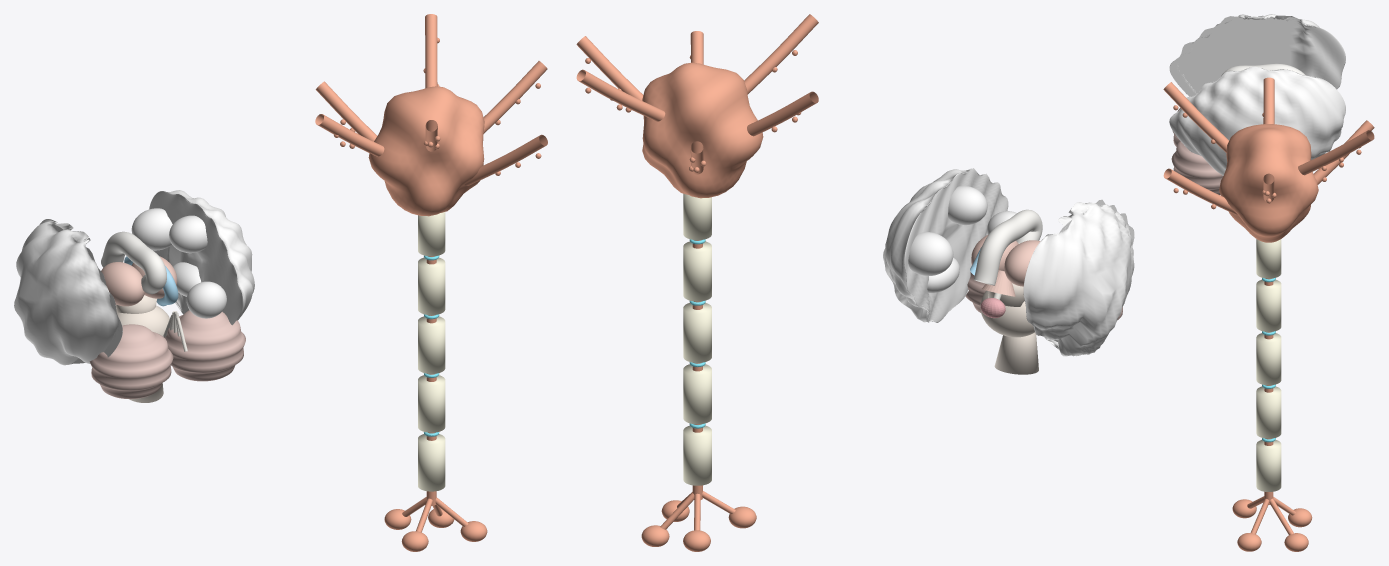
Rendered from brain_realistic.glb.
The picture shows the model from 3 angles, left to right: view 1: azimuth 30°, elevation 25°; view 2: azimuth 150°, elevation 25°; view 3: azimuth 270°, elevation 25°; orthographic projection. The views are drawn at different scales.
Visible parts, largest first — view 1: Right_Cerebral_Hemisphere, Neuron_Soma, Left_Cerebral_Hemisphere, Right_Cerebellar_Hemisphere, Left_Cerebellar_Hemisphere, Corpus_Callosum, Myelin_Sheath_Segment_5, Myelin_Sheath_Segment_3, Myelin_Sheath_Segment_2, Myelin_Sheath_Segment_4, Right_Thalamus, Frontal_Lobe (+10 smaller); view 2: Right_Cerebral_Hemisphere, Neuron_Soma, Left_Cerebral_Hemisphere, Corpus_Callosum, Myelin_Sheath_Segment_2, Myelin_Sheath_Segment_4, Myelin_Sheath_Segment_5, Myelin_Sheath_Segment_3, Frontal_Lobe, Medulla_Oblongata, Dendrite_Primary_5, Parietal_Lobe (+6 smaller); view 3: Left_Cerebral_Hemisphere, Right_Cerebral_Hemisphere, Neuron_Soma, Left_Cerebellar_Hemisphere, Myelin_Sheath_Segment_4, Myelin_Sheath_Segment_3, Myelin_Sheath_Segment_2, Myelin_Sheath_Segment_5, Dendrite_Primary_5, Myelin_Sheath_Segment_1, Dendrite_Primary_2, Dendrite_Primary_6 (+8 smaller).
Part boxes in pixels (x1,y1,x2,y2): Right_Cerebral_Hemisphere: [14, 219, 122, 365]; Neuron_Soma: [368, 86, 484, 216]; Left_Cerebral_Hemisphere: [149, 190, 254, 325]; Right_Cerebellar_Hemisphere: [89, 324, 173, 399]; Left_Cerebellar_Hemisphere: [164, 310, 245, 381]; Corpus_Callosum: [101, 231, 166, 294]; Myelin_Sheath_Segment_5: [418, 434, 445, 491]; Myelin_Sheath_Segment_3: [418, 316, 445, 373]; Myelin_Sheath_Segment_2: [418, 257, 445, 315]; Myelin_Sheath_Segment_4: [418, 375, 445, 432]; Right_Thalamus: [101, 262, 144, 306]; Frontal_Lobe: [131, 208, 172, 250]; Right_Cerebral_Hemisphere: [1023, 199, 1134, 356]; Neuron_Soma: [642, 62, 763, 198]; Left_Cerebral_Hemisphere: [883, 168, 1008, 322]; Corpus_Callosum: [973, 209, 1042, 285]; Myelin_Sheath_Segment_2: [683, 241, 711, 301]; Myelin_Sheath_Segment_4: [683, 364, 711, 424]; Myelin_Sheath_Segment_5: [683, 425, 711, 485]; Myelin_Sheath_Segment_3: [683, 303, 711, 362]; Frontal_Lobe: [908, 232, 953, 275]; Medulla_Oblongata: [994, 332, 1038, 374]; Dendrite_Primary_5: [744, 14, 818, 94]; Parietal_Lobe: [948, 186, 987, 225]; Left_Cerebral_Hemisphere: [1169, 66, 1345, 175]; Right_Cerebral_Hemisphere: [1169, 14, 1345, 96]; Neuron_Soma: [1219, 124, 1318, 242]; Left_Cerebellar_Hemisphere: [1171, 141, 1223, 194]; Myelin_Sheath_Segment_4: [1256, 386, 1281, 438]; Myelin_Sheath_Segment_3: [1256, 333, 1281, 385]; Myelin_Sheath_Segment_2: [1256, 279, 1281, 331]; Myelin_Sheath_Segment_5: [1256, 440, 1281, 491]; Dendrite_Primary_5: [1163, 82, 1228, 152]; Myelin_Sheath_Segment_1: [1256, 239, 1281, 278]; Dendrite_Primary_2: [1298, 130, 1374, 175]; Dendrite_Primary_6: [1163, 168, 1237, 214].
Bounding box in the file's own units: 7.87 × 6.89 × 3.05.
